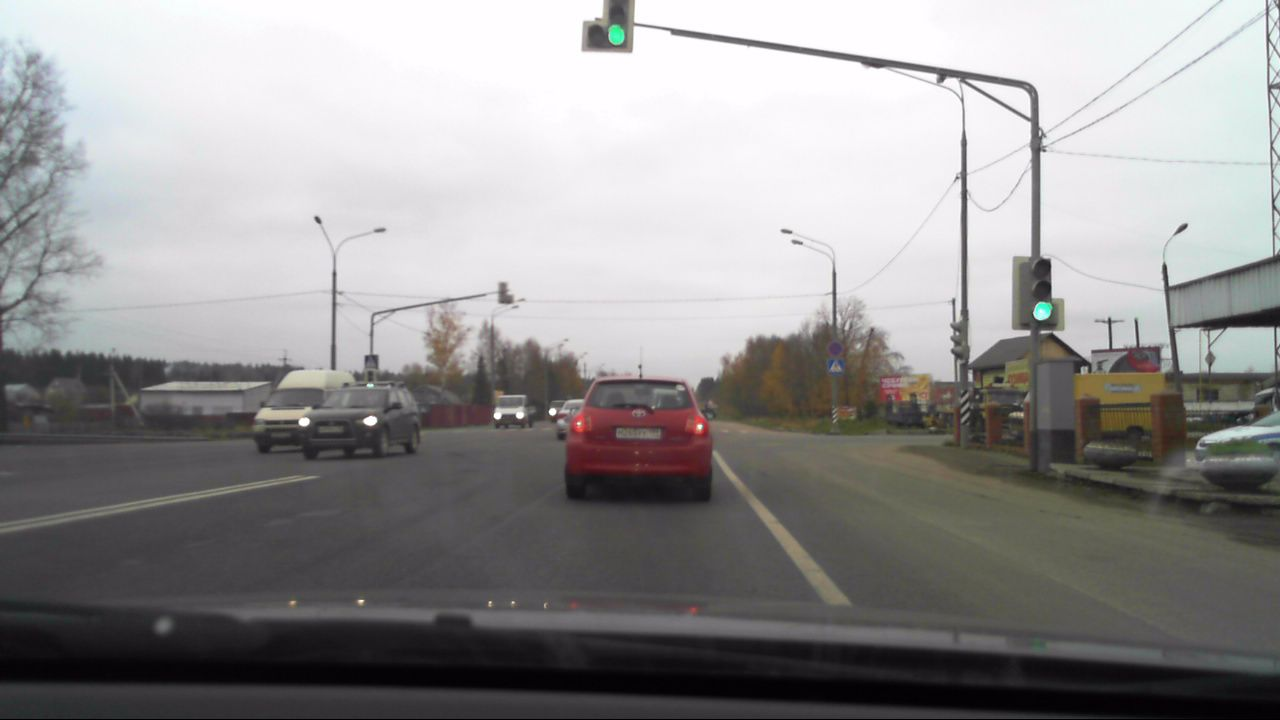No Parking: (826, 339, 844, 357)
